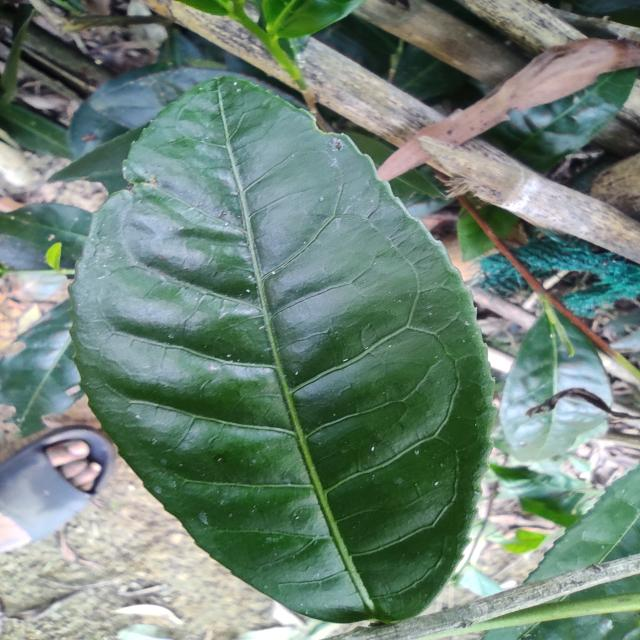Category D 7+ days, Not for Tea: (51, 61, 538, 638)
